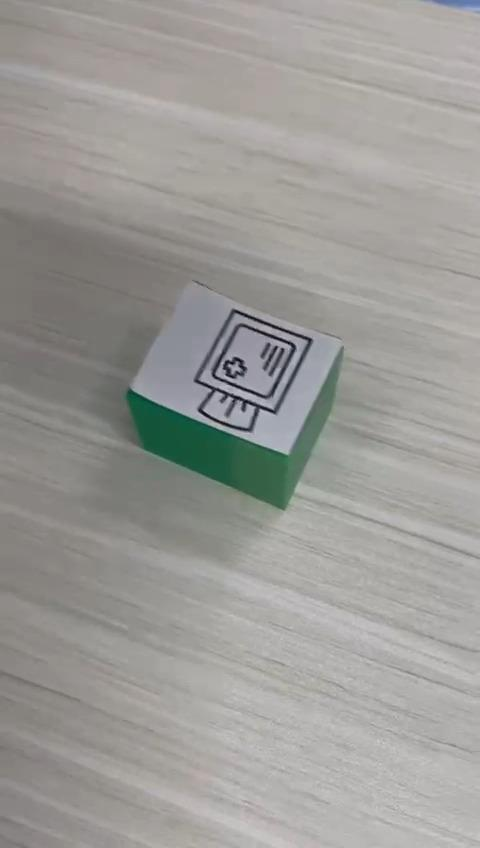Gauze: (124, 278, 344, 510)
